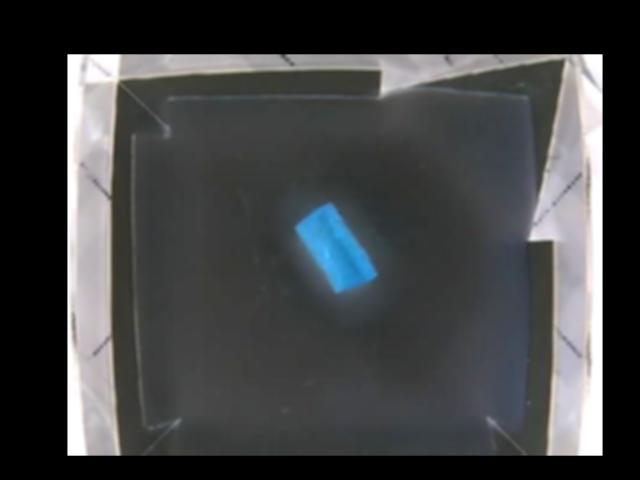Carrot: (294, 202, 377, 294)
